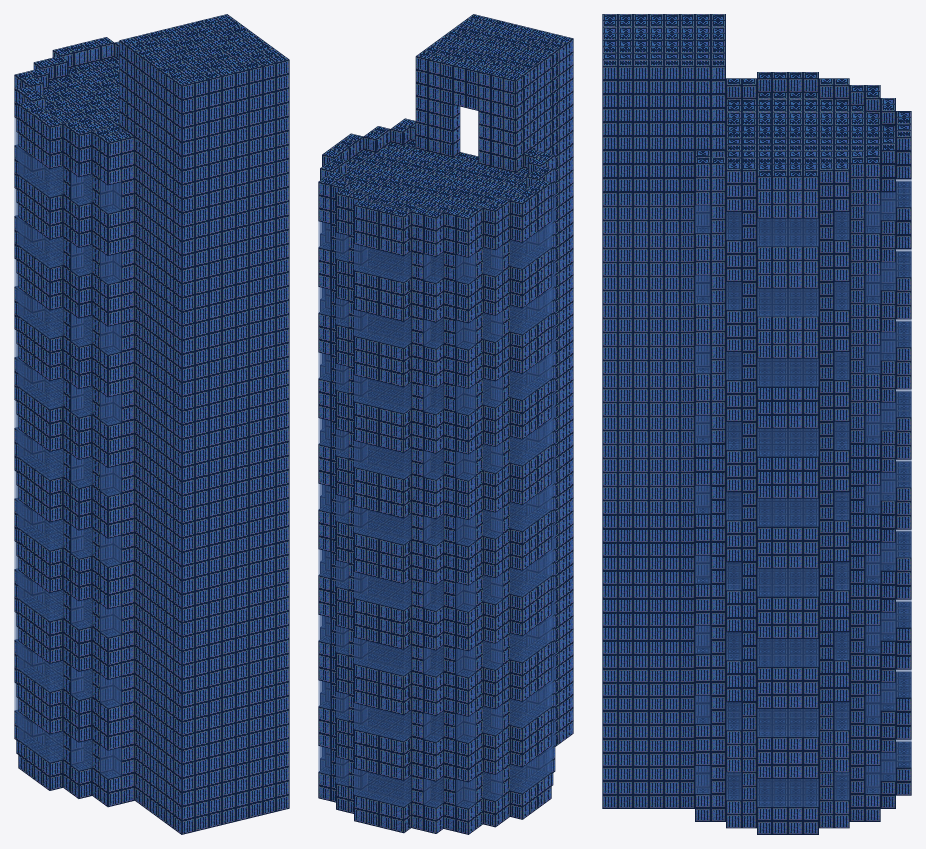
The model's file is building.glb.
3 views of the same model, side by side, from view 1: azimuth 30°, elevation 25°; view 2: azimuth 150°, elevation 25°; view 3: azimuth 270°, elevation 25° (orthographic). The views are drawn at different scales.
Bounding box in the file's own units: 16 × 53 × 20.
Materials: 2 (2 with a texture image).
